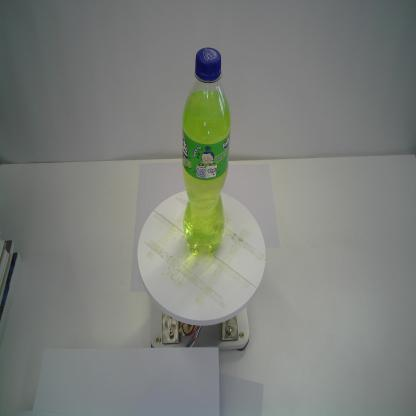Drink: (180, 46, 233, 260)
